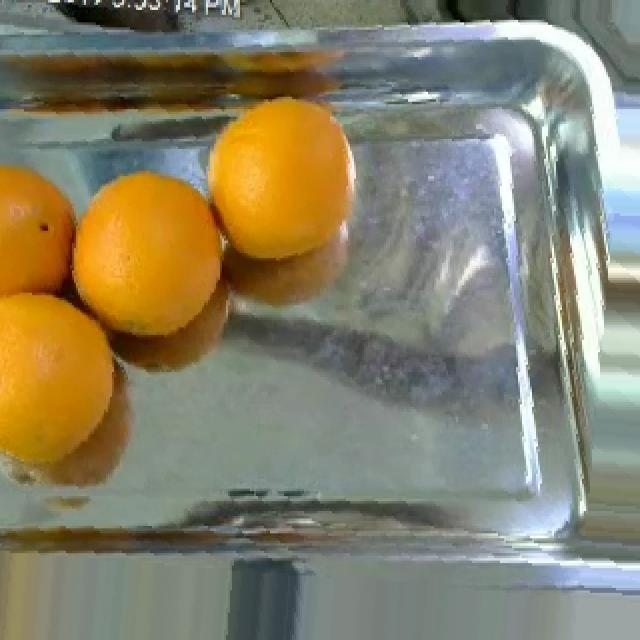Fruit: (186, 79, 388, 288)
